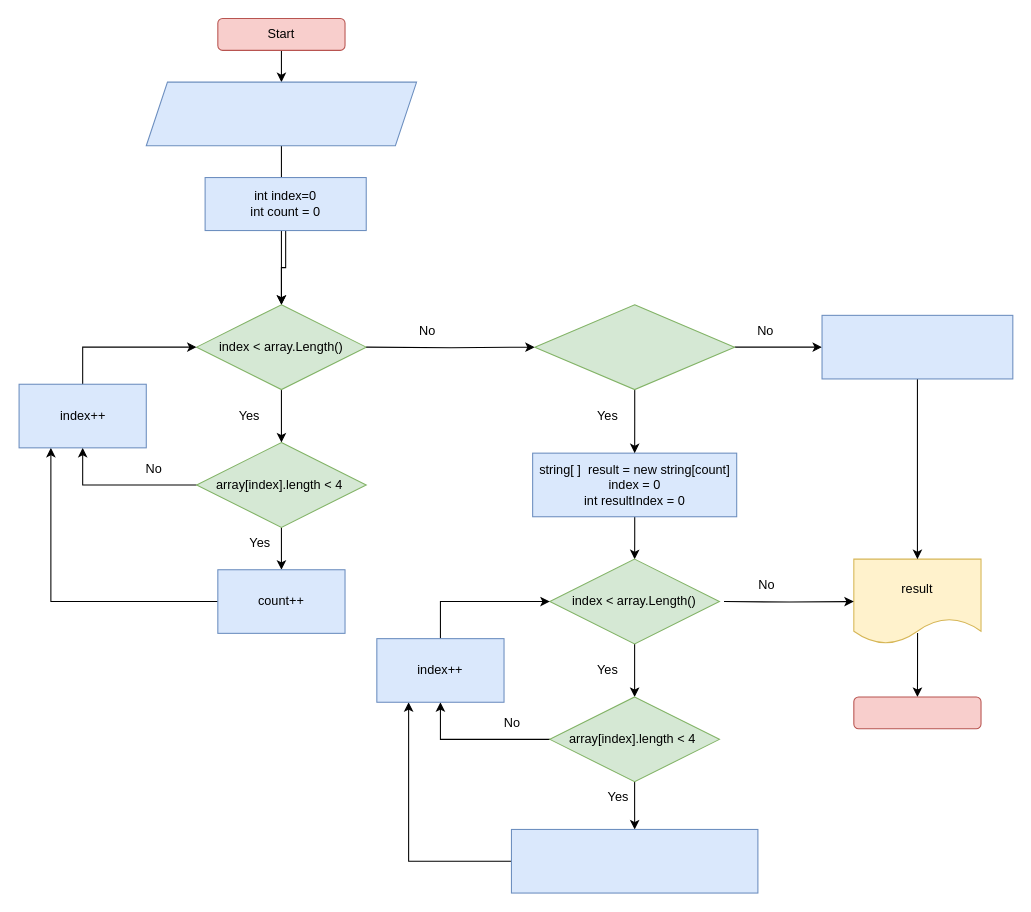
Image size: 1031x912. Some labels were removed from this diagram. The shapes that lost their labels are listed below. From the top down, each one's centre as x and y in pixels, then its label:
(x=281, y=113): array = [“Hello”, “2”, “world”, “:-)”]
(x=634, y=347): Count == 0
(x=917, y=346): string[ ] result = new string[1] string[ ] result[1] = "нет данных"
(x=917, y=712): End
(x=634, y=860): result[resultIndex] = array[index] resultIndex++
